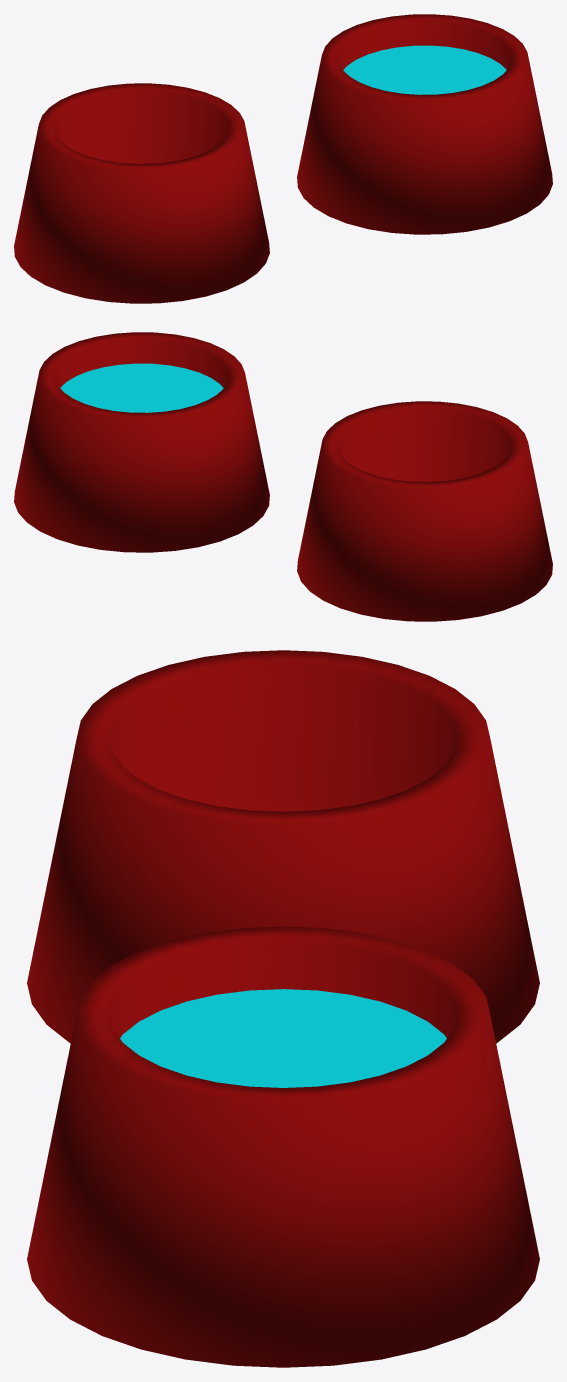
File: Food+Water Bowl.fbx
The picture shows the model from 3 angles, top to bottom: view 1: azimuth 30°, elevation 25°; view 2: azimuth 150°, elevation 25°; view 3: azimuth 270°, elevation 25°; orthographic projection. The views are drawn at different scales.
Visible parts, largest first — view 1: Cylinder.004, Cylinder.003; view 2: Cylinder.004, Cylinder.003; view 3: Cylinder.004, Cylinder.003.
Boxes of the visible parts, left/top/right/bottom form: Cylinder.004: left=297, top=14, right=552, bottom=234; Cylinder.003: left=14, top=83, right=269, bottom=303; Cylinder.004: left=14, top=332, right=269, bottom=552; Cylinder.003: left=297, top=401, right=552, bottom=621; Cylinder.004: left=27, top=926, right=539, bottom=1367; Cylinder.003: left=27, top=650, right=539, bottom=1043.
Size of the model in its own units: 744 by 173 by 327.
